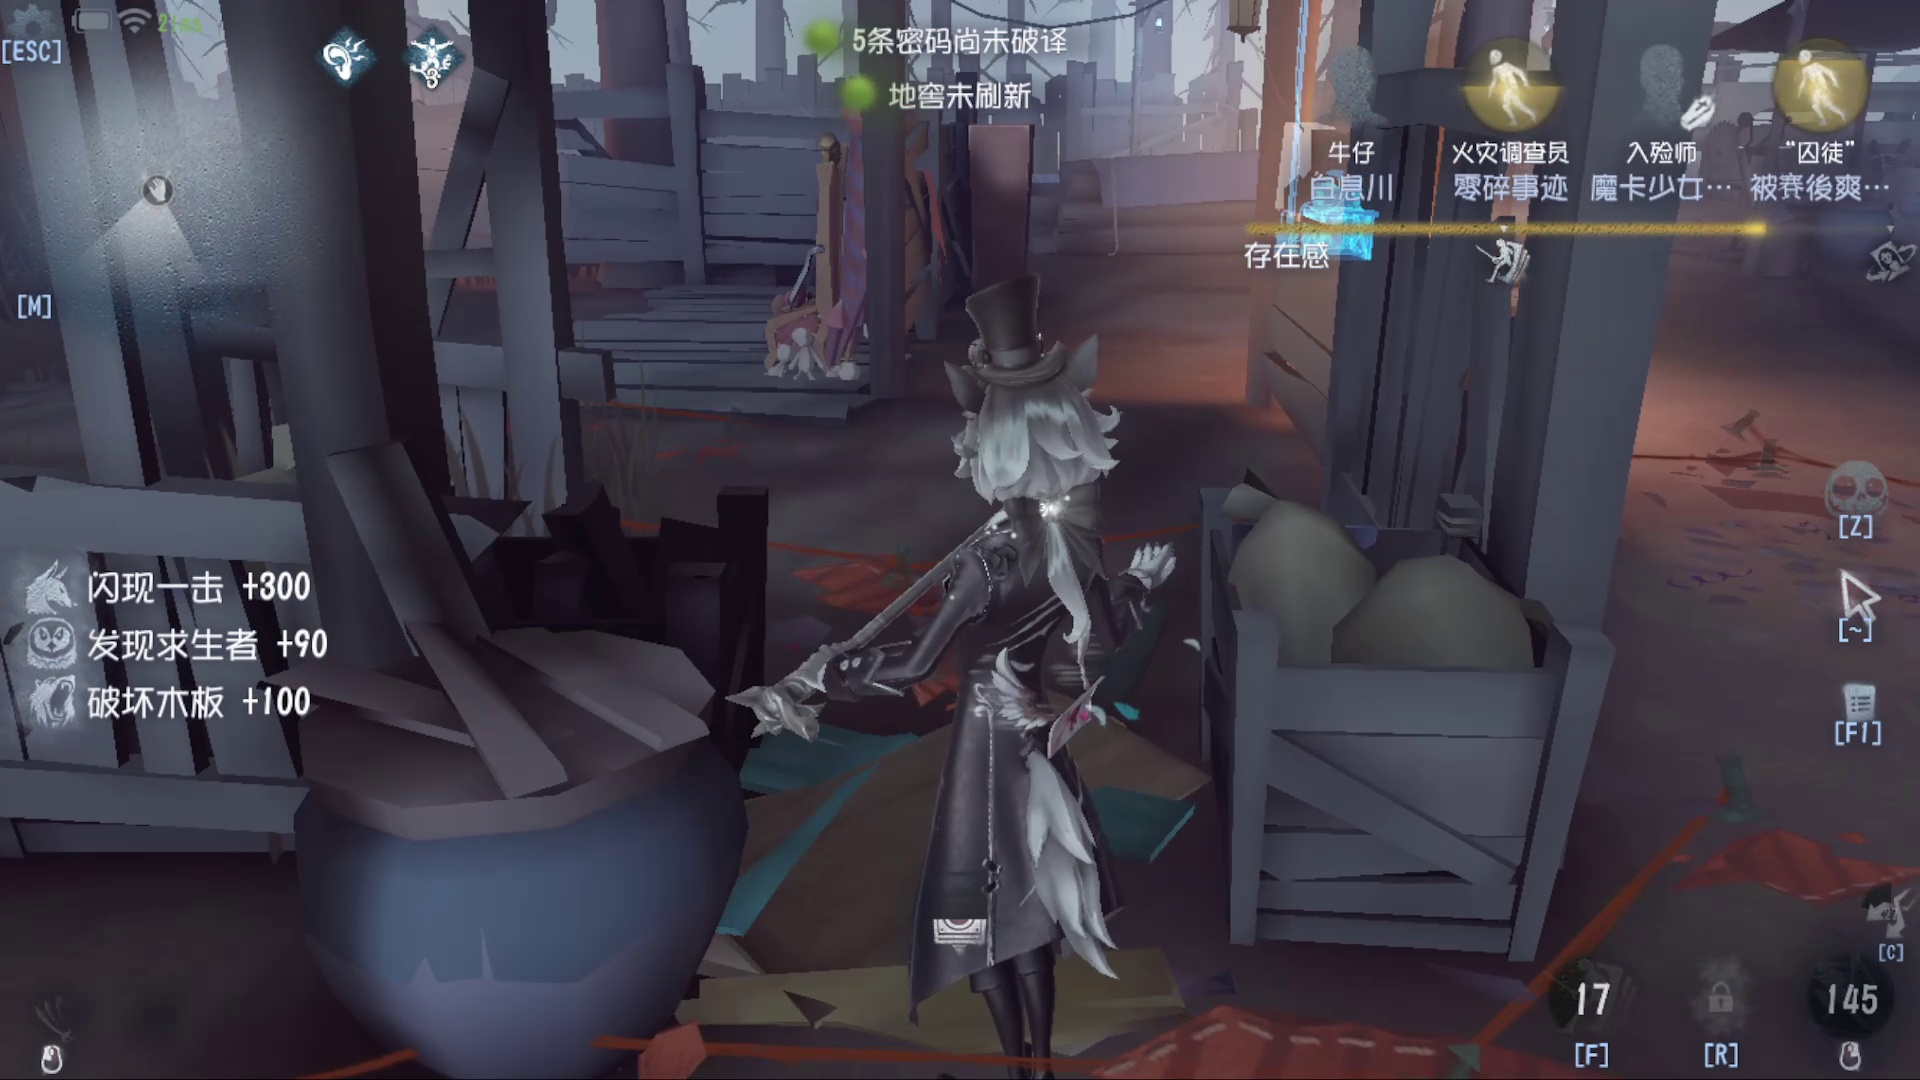狂欢之椅: (760, 88, 932, 392)
